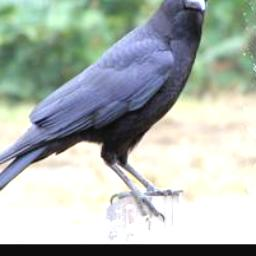Crow: (0, 0, 215, 225)
